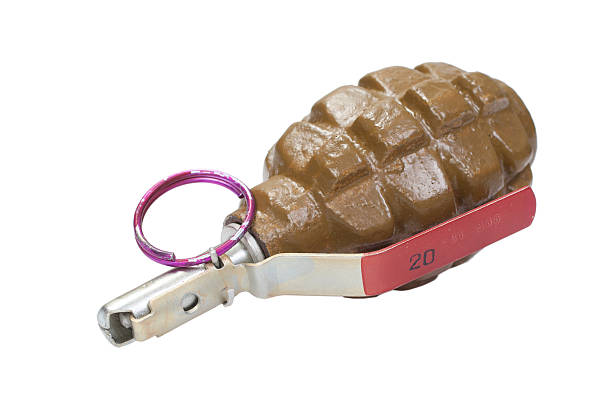e1: (97, 61, 537, 327)
